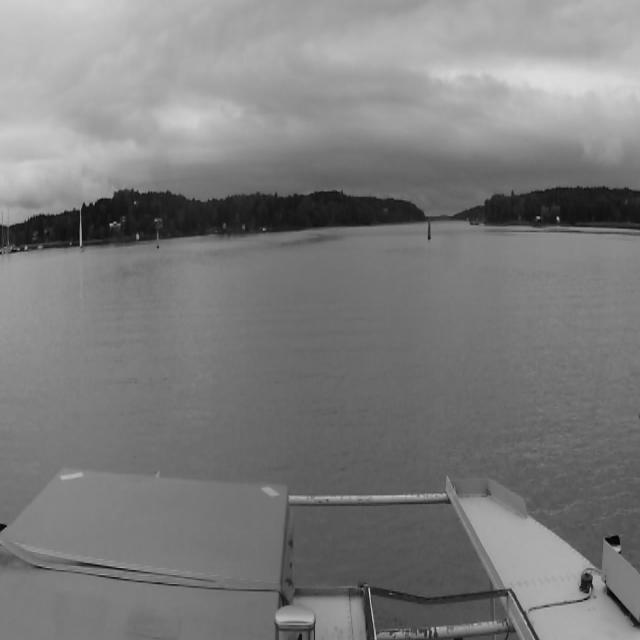buoy: (426, 221, 432, 242), (156, 228, 160, 250), (428, 217, 431, 230)
ship: (77, 202, 85, 252)
